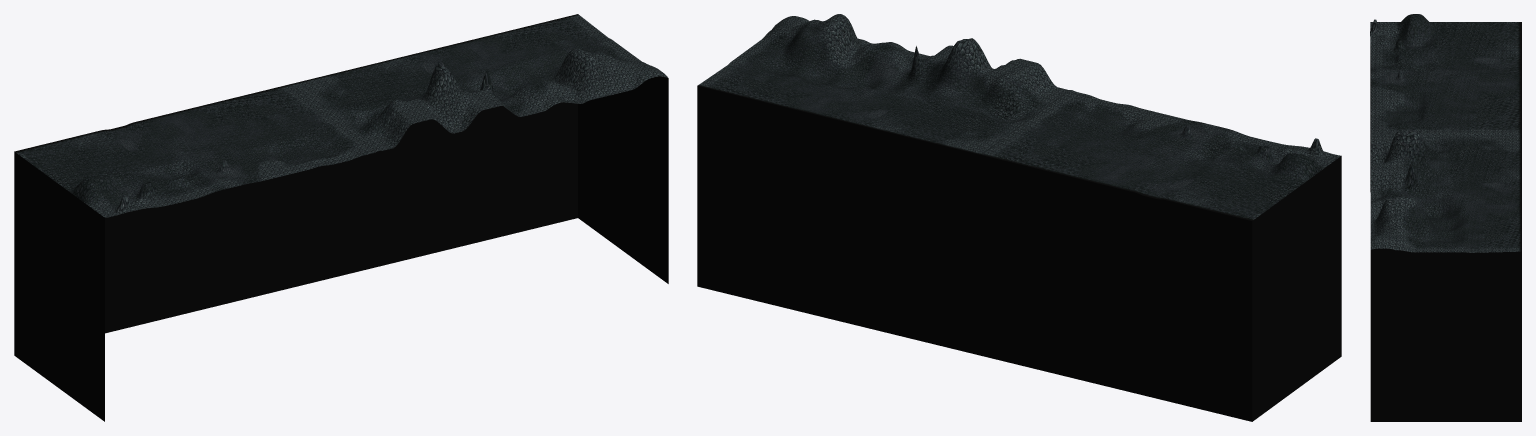
3 views of the same model, side by side, from view 1: azimuth 30°, elevation 25°; view 2: azimuth 150°, elevation 25°; view 3: azimuth 270°, elevation 25° (orthographic). The views are drawn at different scales.
Parts seen in each view (by area): view 1: ground_base5; view 2: ground_base5; view 3: ground_base5.
Part boxes in pixels (<box>): ground_base5: <box>14,14,668,421</box>; ground_base5: <box>697,14,1341,421</box>; ground_base5: <box>1370,14,1521,421</box>.
Size of the model in its own units: 5790 by 2475 by 1617.
